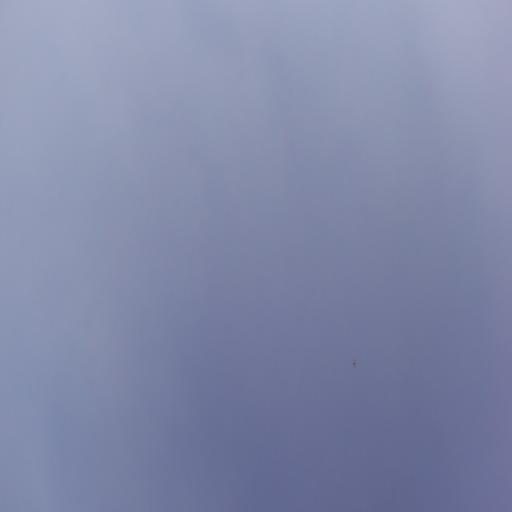drones: (350, 356, 360, 370)
